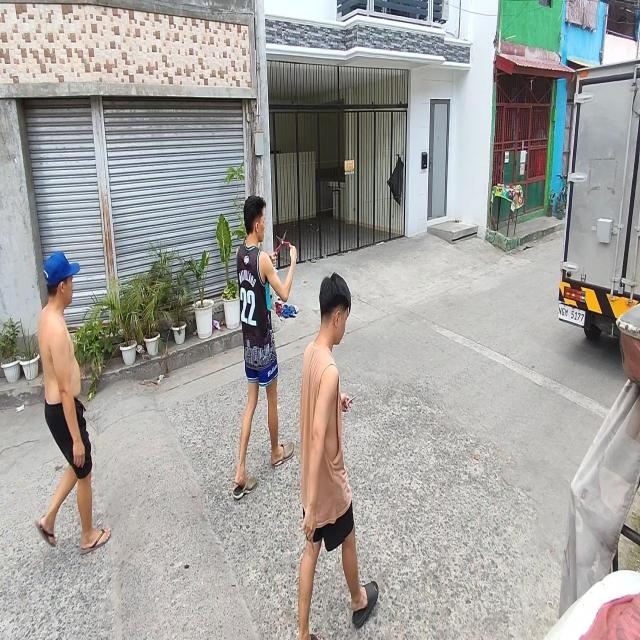scissor: (275, 230, 291, 255)
